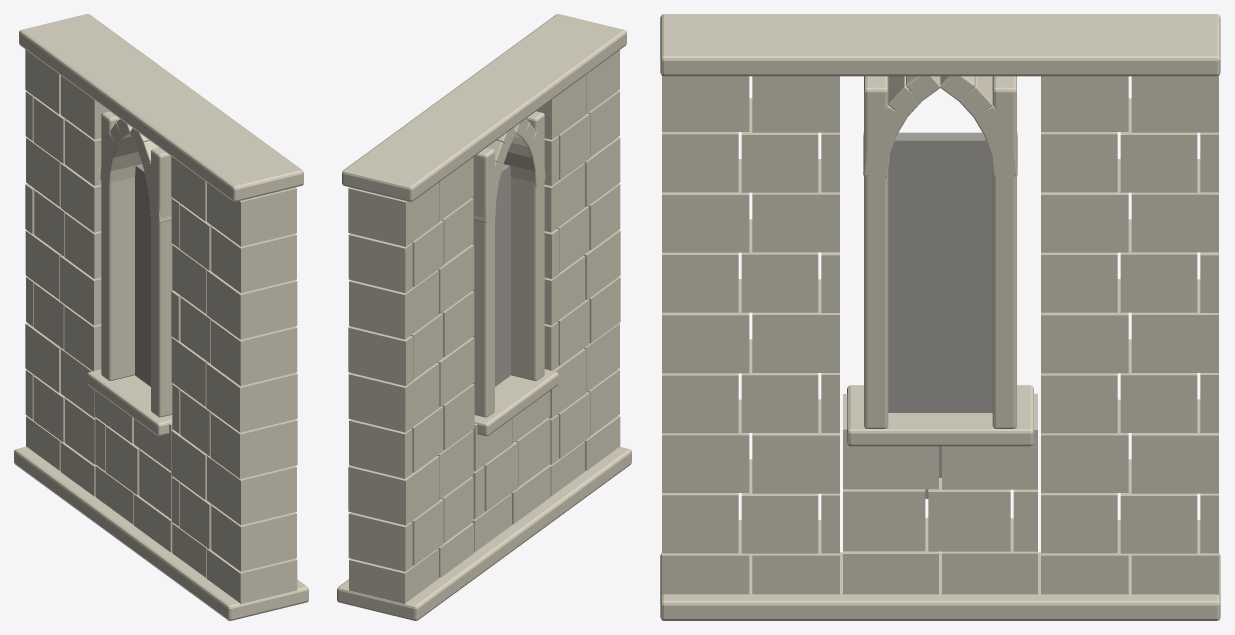
The model's file is monastery_monastery_lancet_window_bay.glb.
The picture shows the model from 3 angles, left to right: view 1: azimuth 30°, elevation 25°; view 2: azimuth 150°, elevation 25°; view 3: azimuth 270°, elevation 25°; orthographic projection. The views are drawn at different scales.
Parts seen in each view (by area): view 1: world; view 2: world; view 3: world.
Part boxes in pixels (box(x1,y1,x2,y2)): world: box(14, 14, 308, 620); world: box(337, 14, 631, 620); world: box(660, 14, 1220, 620).
Bounding box in the file's own units: 0.3916 × 2 × 1.81.
